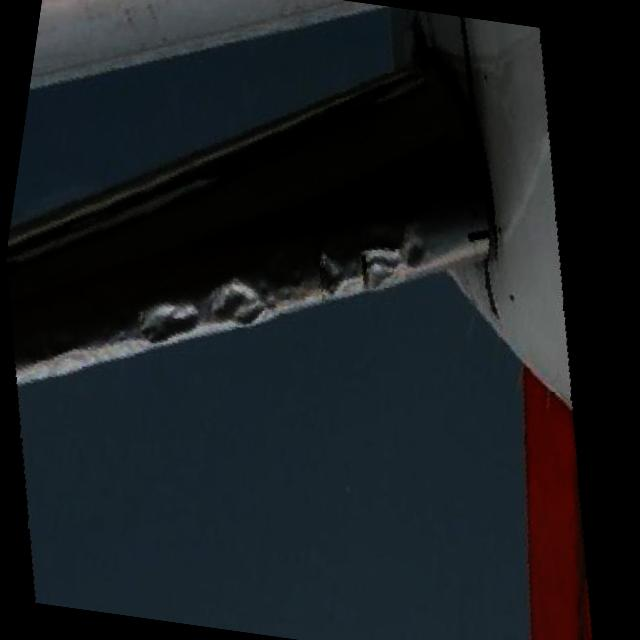dent: (134, 292, 208, 352), (205, 274, 272, 330), (350, 238, 397, 284), (306, 247, 349, 297), (394, 226, 432, 274)
